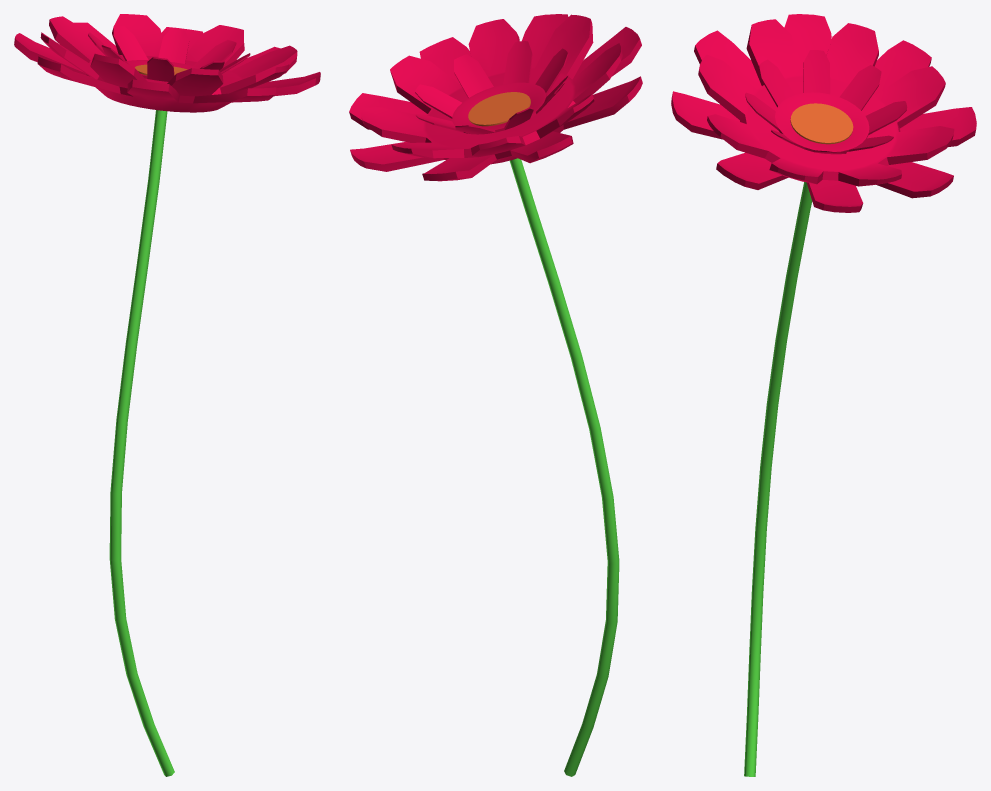
File: flower medium.fbx
3 views of the same model, side by side, from view 1: azimuth 30°, elevation 25°; view 2: azimuth 150°, elevation 25°; view 3: azimuth 270°, elevation 25° (orthographic). The views are drawn at different scales.
Parts seen in each view (by area): view 1: flower base; view 2: flower base; view 3: flower base.
Boxes of the visible parts, x1,y1,x2,y2 form: flower base: (14, 14, 320, 776); flower base: (349, 14, 642, 776); flower base: (671, 14, 976, 776).
Bounding box in the file's own units: 0.3872 × 1.03 × 0.3923.
